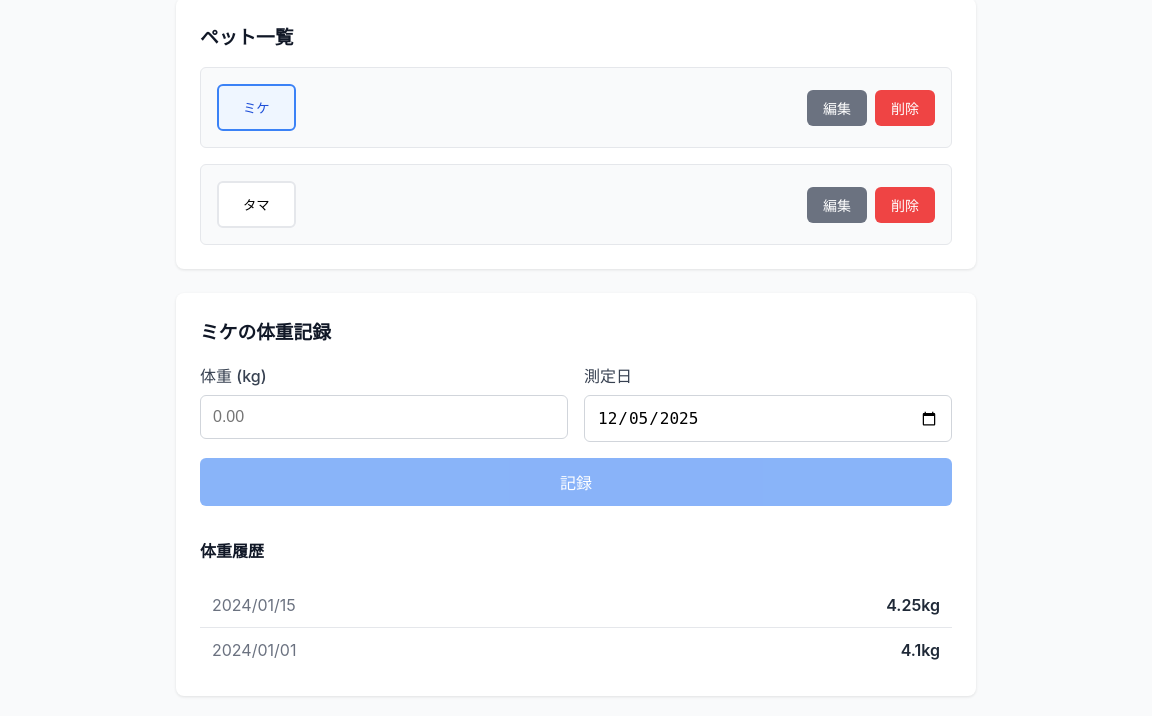
Test: PetManagement › Weight Record Input Validation › should successfully record weight with valid input
(page scrolled)
Expected: the heading "ミケの体重記録" is shown, [200,321,331,344]
In the number field with placeholder "0.00": (384, 417) [200,395,568,439], type "4.35"
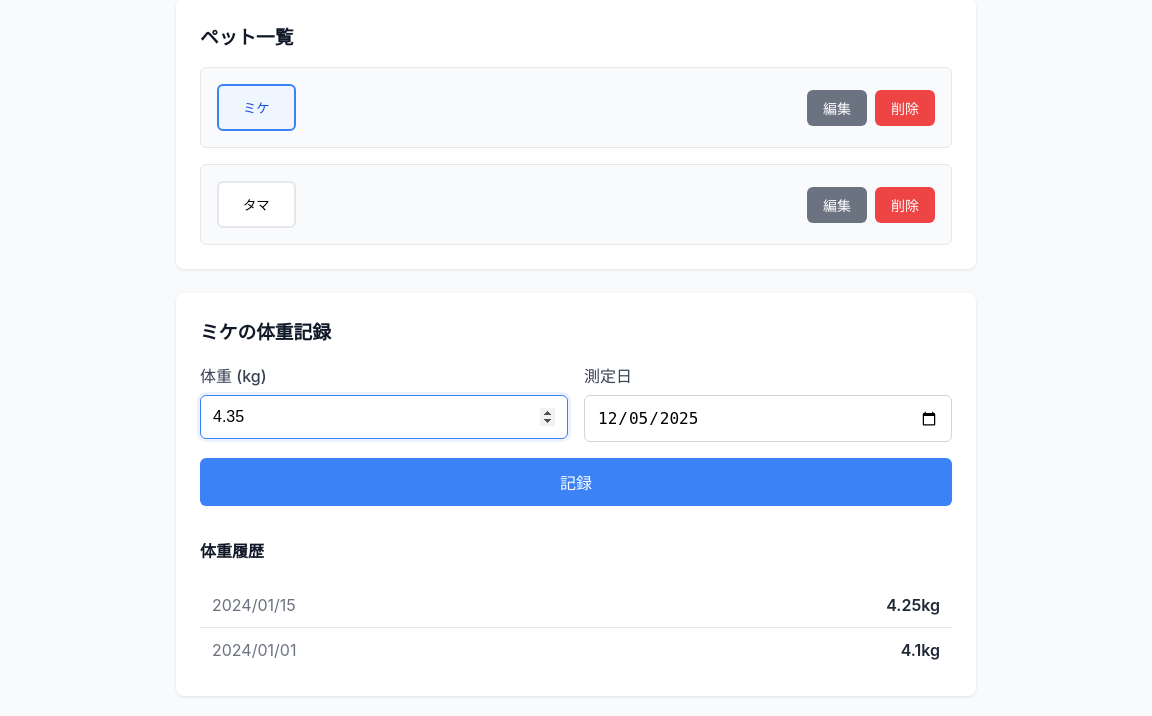
Click the button "記録": (576, 482) [200,458,952,506]
(page scrolled)
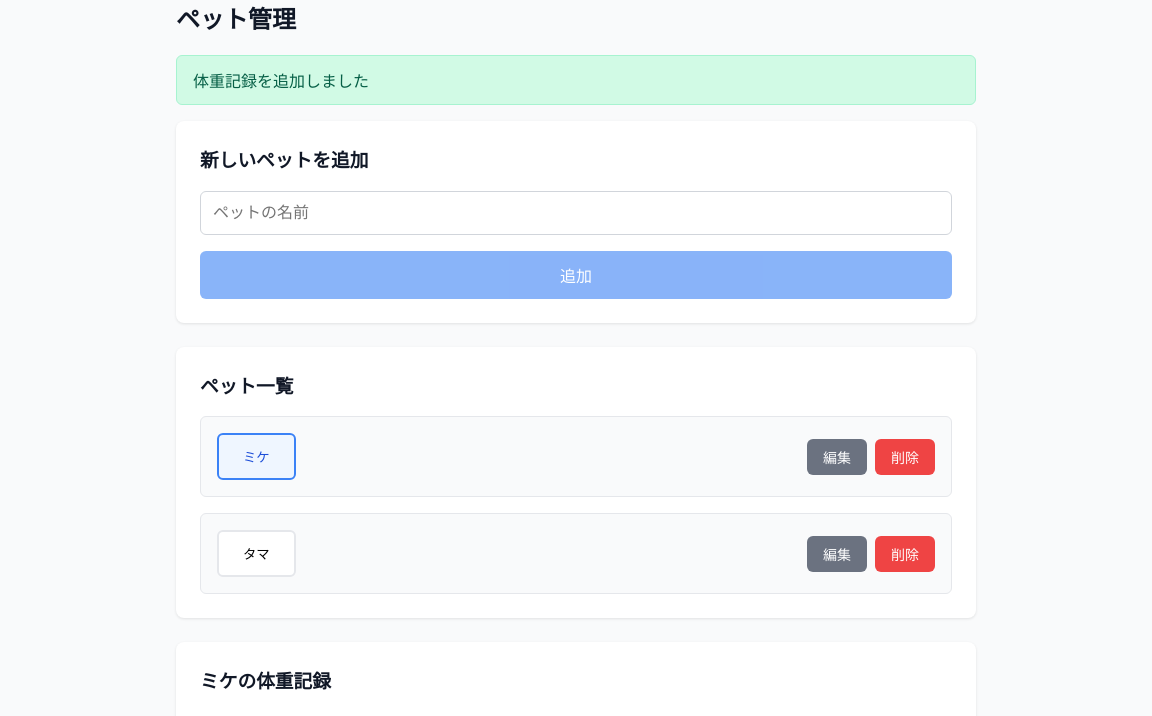
Expected: the text "体重記録を追加しました" is shown, [176,55,976,105]
